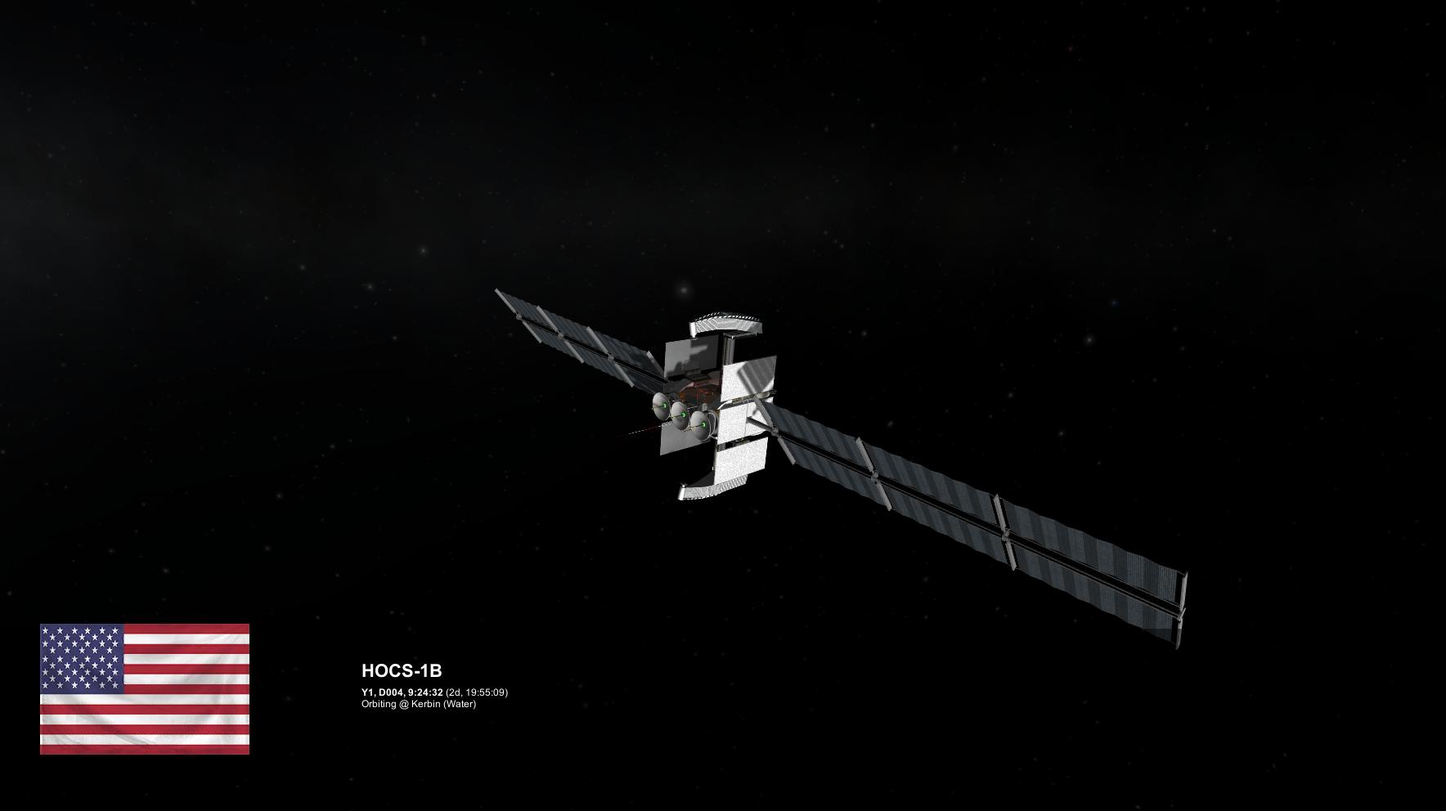antenna: (613, 422, 673, 440), (689, 409, 714, 442), (669, 400, 691, 432), (651, 391, 671, 423)
body: (666, 369, 777, 446)
solar: (752, 392, 1191, 652), (492, 288, 676, 398)
